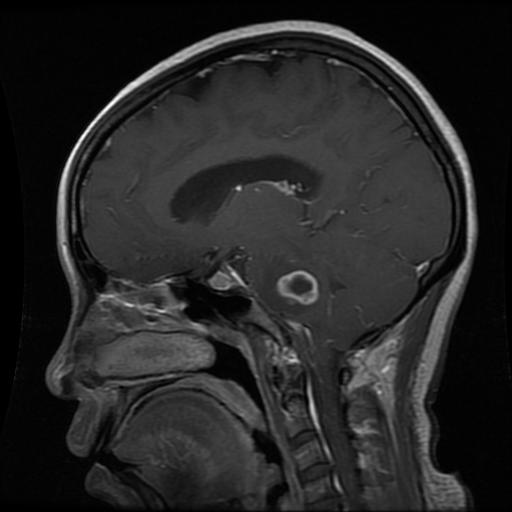Gliomia_tumour: (274, 268, 321, 305)
